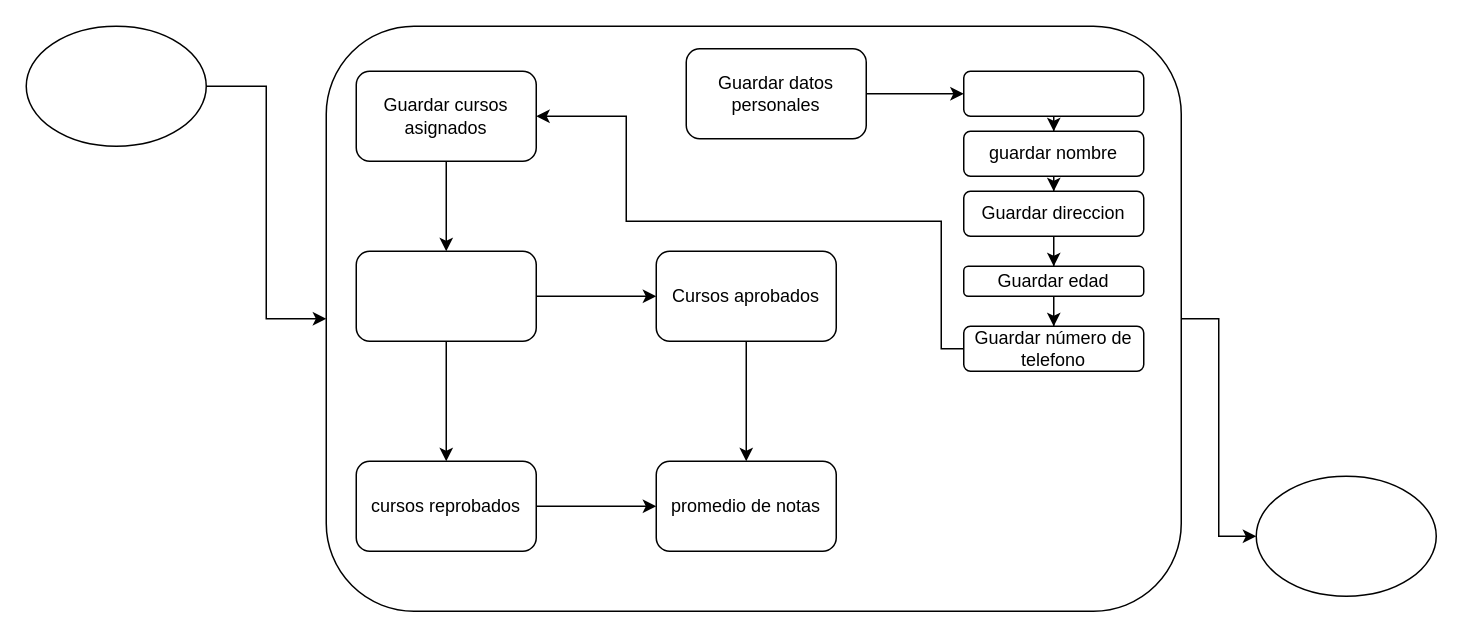
This 1463x638 diagram has some shape labels left out. Each missing label, with the box of its shape:
Fin: (1255, 475, 1436, 596)
guardar dpi: (962, 70, 1144, 116)
Guardar notas de los cursos asignados: (355, 250, 536, 341)
Inicio: (25, 25, 206, 146)
